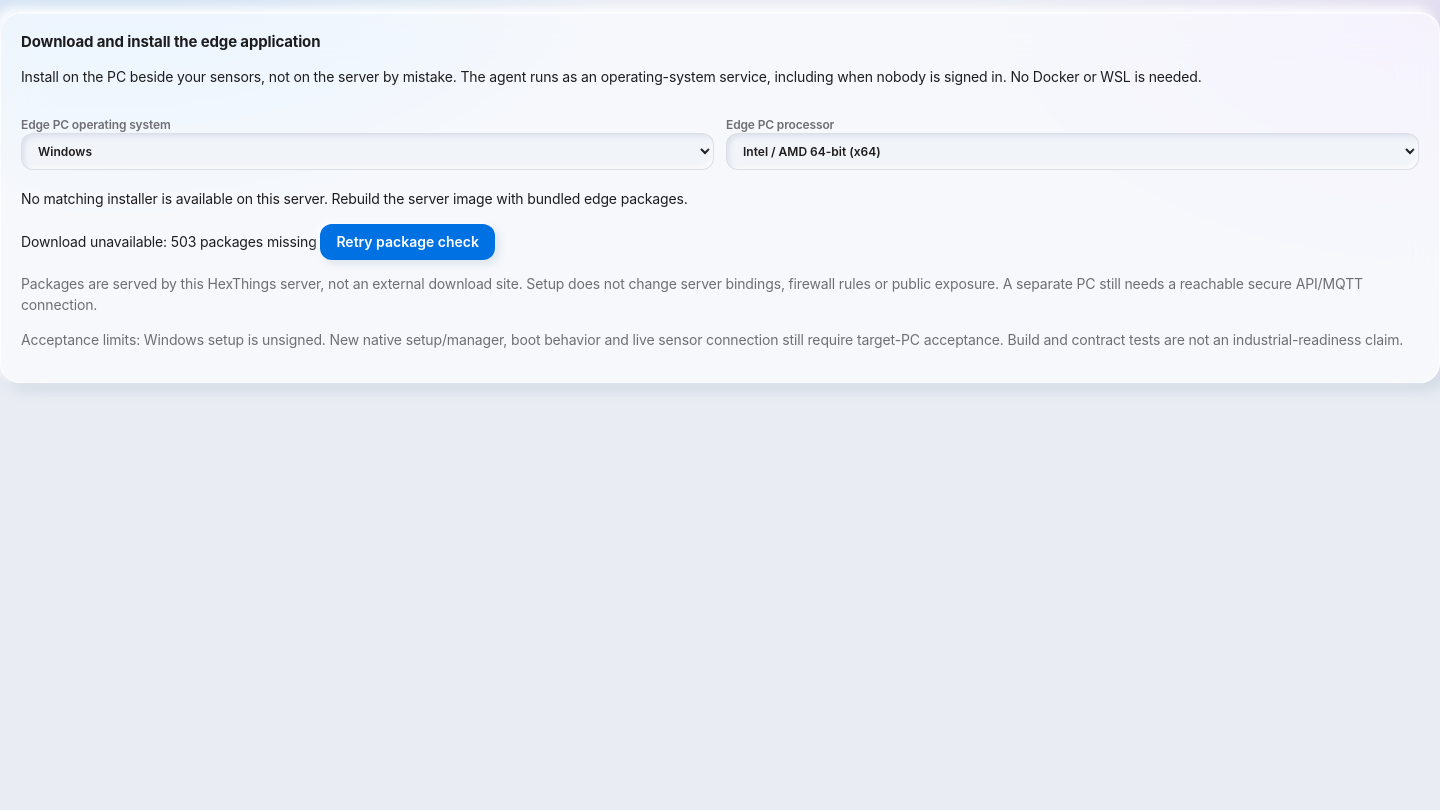
unavailable inventory exposes retry and does not offer a fake link
This screenshot has width=1440, height=810.
Expected: the message "Download unavailable: 503 packages missing Retry package check" is shown, x1=21 y1=224 x2=495 y2=260
Click the button "Retry package check" at x=408, y=242, box x1=320 y1=224 x2=495 y2=260
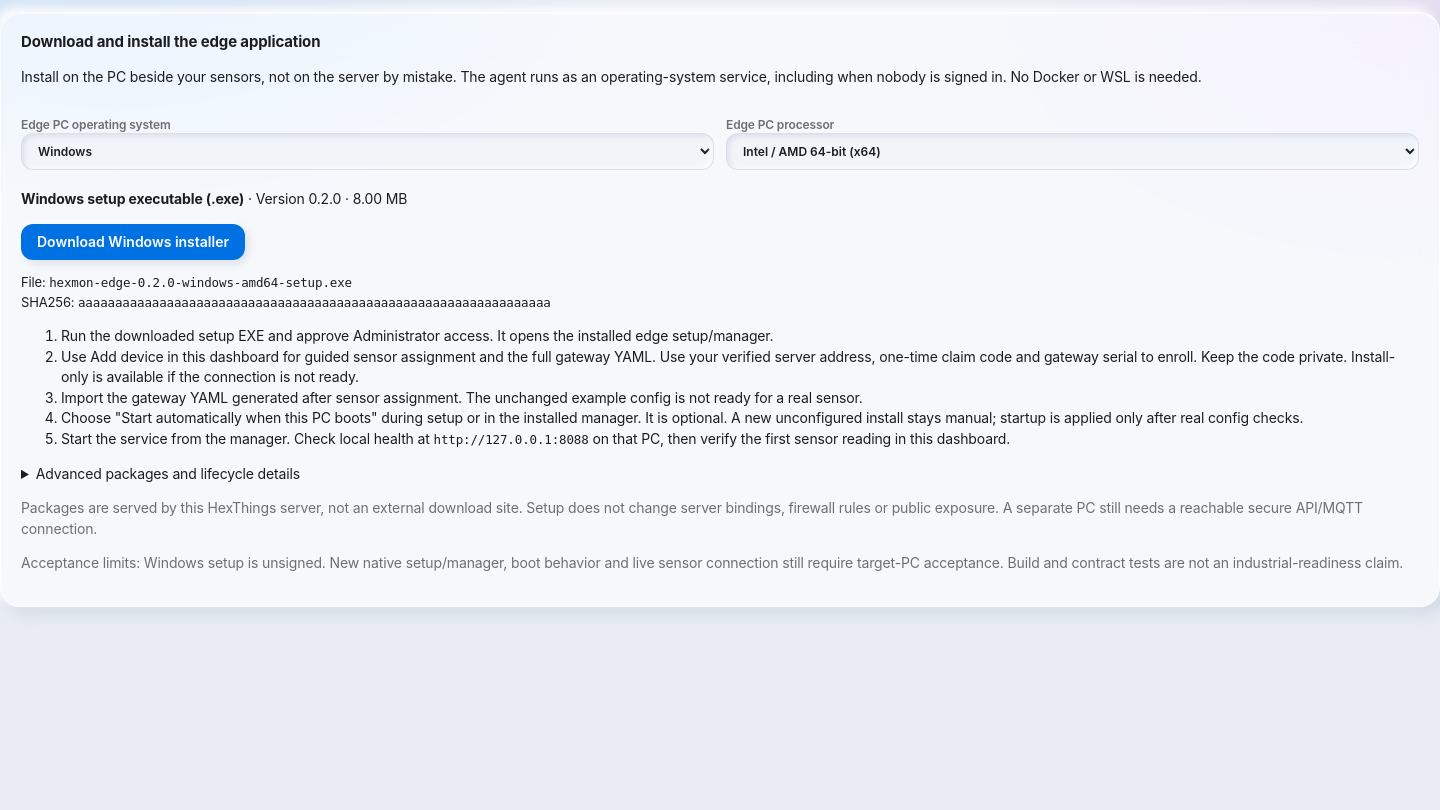
Now the button "Download Windows installer" is shown, box x1=21 y1=224 x2=245 y2=260
